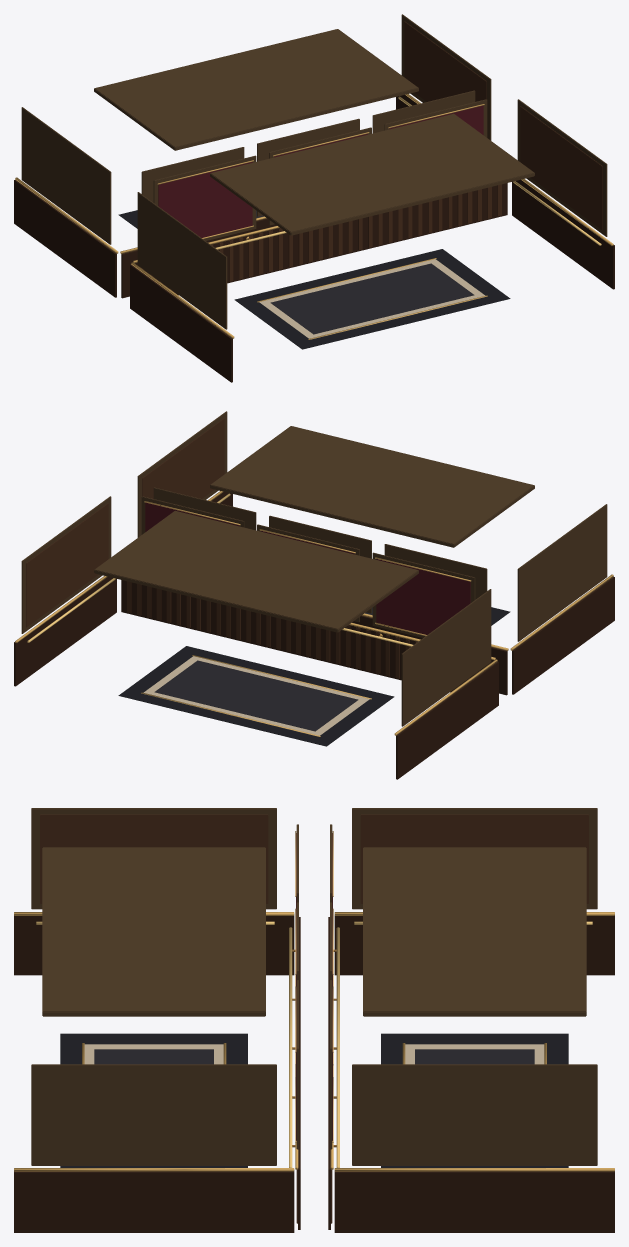
File: elevator_cabin_interior.glb
3 renders of one model, top to bottom at view 1: azimuth 30°, elevation 25°; view 2: azimuth 150°, elevation 25°; view 3: azimuth 270°, elevation 25°, orthographic. The views are drawn at different scales.
Parts seen in each view (by area): view 1: elevator_cabin_interior_bronze_dk, elevator_cabin_interior_walnut_dk, elevator_cabin_interior_walnut, elevator_cabin_interior_nero, elevator_cabin_interior_obsidian, elevator_cabin_interior_burgundy, elevator_cabin_interior_brass, elevator_cabin_interior_travertine, elevator_cabin_interior_brass_hi; view 2: elevator_cabin_interior_bronze_dk, elevator_cabin_interior_walnut_dk, elevator_cabin_interior_walnut, elevator_cabin_interior_nero, elevator_cabin_interior_obsidian, elevator_cabin_interior_burgundy, elevator_cabin_interior_brass, elevator_cabin_interior_travertine, elevator_cabin_interior_brass_hi; view 3: elevator_cabin_interior_bronze_dk, elevator_cabin_interior_walnut_dk, elevator_cabin_interior_walnut, elevator_cabin_interior_obsidian, elevator_cabin_interior_brass, elevator_cabin_interior_nero, elevator_cabin_interior_travertine, elevator_cabin_interior_brass_hi, elevator_cabin_interior_burgundy.
Boxes of the visible parts, x1,y1,x2,y2 form: elevator_cabin_interior_bronze_dk: (21, 14, 607, 329); elevator_cabin_interior_walnut_dk: (14, 95, 614, 382); elevator_cabin_interior_walnut: (139, 21, 602, 291); elevator_cabin_interior_nero: (256, 210, 474, 334); elevator_cabin_interior_obsidian: (118, 210, 510, 349); elevator_cabin_interior_burgundy: (158, 105, 483, 237); elevator_cabin_interior_brass: (15, 94, 613, 339); elevator_cabin_interior_travertine: (259, 259, 485, 339); elevator_cabin_interior_brass_hi: (215, 96, 601, 249); elevator_cabin_interior_bronze_dk: (21, 411, 607, 726); elevator_cabin_interior_walnut_dk: (14, 492, 614, 779); elevator_cabin_interior_walnut: (26, 418, 489, 688); elevator_cabin_interior_nero: (154, 607, 372, 731); elevator_cabin_interior_obsidian: (118, 607, 510, 746); elevator_cabin_interior_burgundy: (145, 502, 470, 634); elevator_cabin_interior_brass: (15, 491, 613, 736); elevator_cabin_interior_travertine: (143, 656, 369, 736); elevator_cabin_interior_brass_hi: (27, 493, 413, 646); elevator_cabin_interior_bronze_dk: (31, 808, 597, 1165); elevator_cabin_interior_walnut_dk: (14, 916, 614, 1232); elevator_cabin_interior_walnut: (40, 814, 588, 1223); elevator_cabin_interior_obsidian: (60, 1033, 568, 1167); elevator_cabin_interior_brass: (14, 831, 614, 1171); elevator_cabin_interior_nero: (94, 1049, 534, 1064); elevator_cabin_interior_travertine: (84, 1044, 544, 1064); elevator_cabin_interior_brass_hi: (36, 921, 592, 1167); elevator_cabin_interior_burgundy: (296, 833, 332, 1140).
Bounding box in the file's own units: 8.48 × 2.67 × 8.32.
